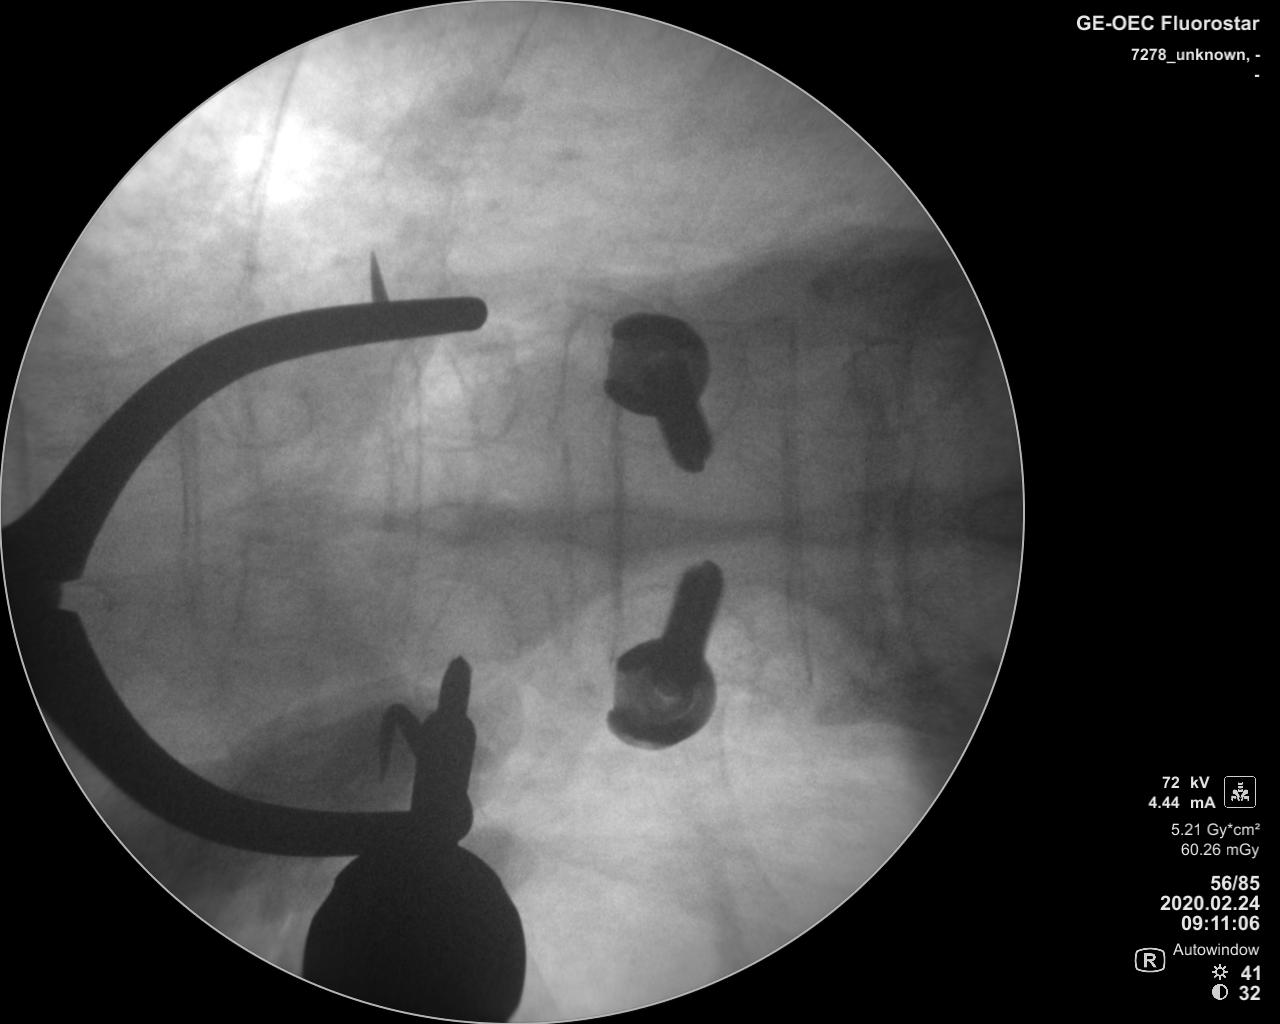eyes: (391, 343, 527, 448), (390, 581, 522, 684), (209, 378, 316, 452), (215, 567, 313, 643)
line: (778, 333, 818, 683), (376, 335, 420, 648), (173, 427, 206, 632), (237, 382, 260, 652), (606, 414, 631, 654), (865, 417, 880, 619)
nose: (779, 488, 952, 549), (215, 485, 370, 552), (558, 502, 716, 557), (385, 492, 533, 549)
